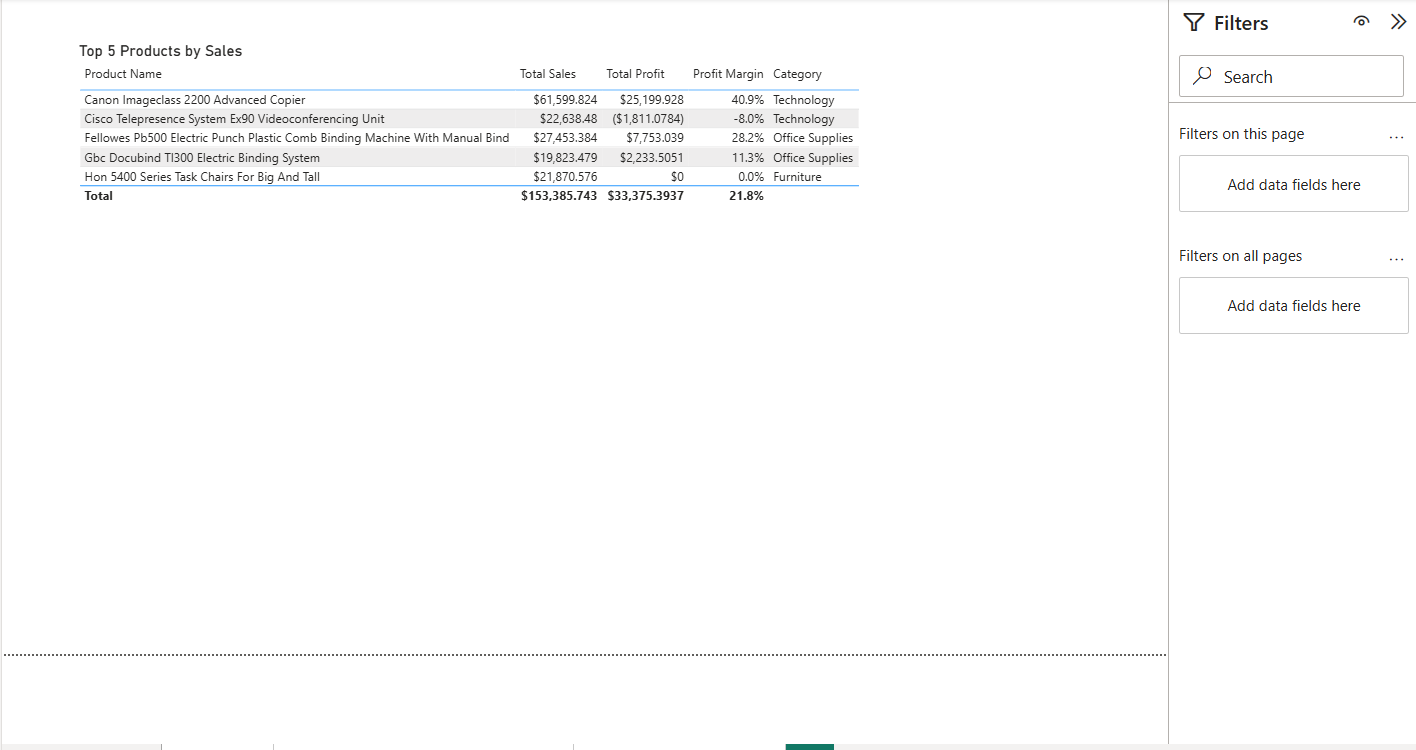

The page's visual inventory and layout, read from the dashboard file:
{"tool":"powerbi","page":{"name":"Top 5 Products by Sales","canvas":[1280,720],"ordinal":2},"visuals":[{"type":"tableEx","title":"Top 5 Products by Sales","fields":{"Values":["Portfolio_Project_1_Superstore.Product Name","Portfolio_Project_1_Superstore.Total Sales","Portfolio_Project_1_Superstore.Total Profit","Portfolio_Project_1_Superstore.Profit Margin","Portfolio_Project_1_Superstore.Category"]},"box":[80,48,896,192],"z":0}]}

Visuals, with their boxes on the page's 1280x720 design canvas (x1, y1, x2, y2). These are canvas units, not pixel positions in the 1416x750 screenshot, which may show the page scaled, cropped or inside an application window:
"Top 5 Products by Sales" tableEx: region(80, 48, 976, 240)
